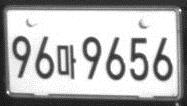5: (129, 36, 149, 81)
6: (151, 36, 174, 82), (104, 35, 126, 80), (34, 36, 54, 80)
9: (11, 34, 32, 79), (81, 35, 102, 80)
마: (55, 43, 77, 79)
